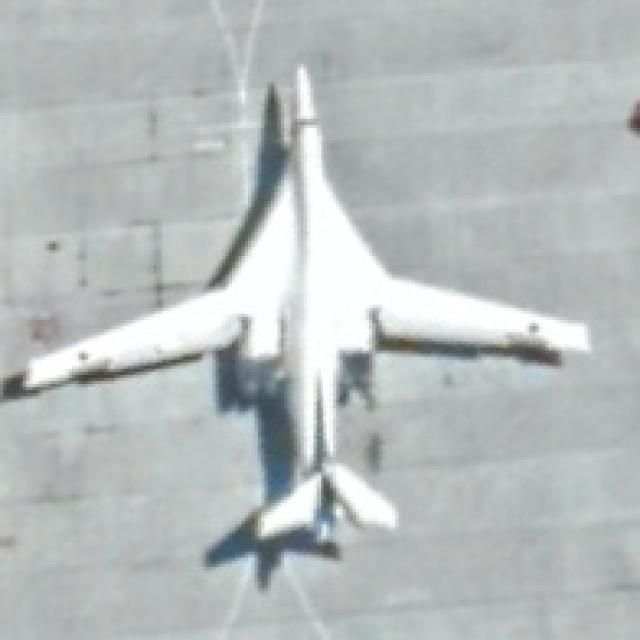B-1_TopDown: (3, 58, 594, 591)
